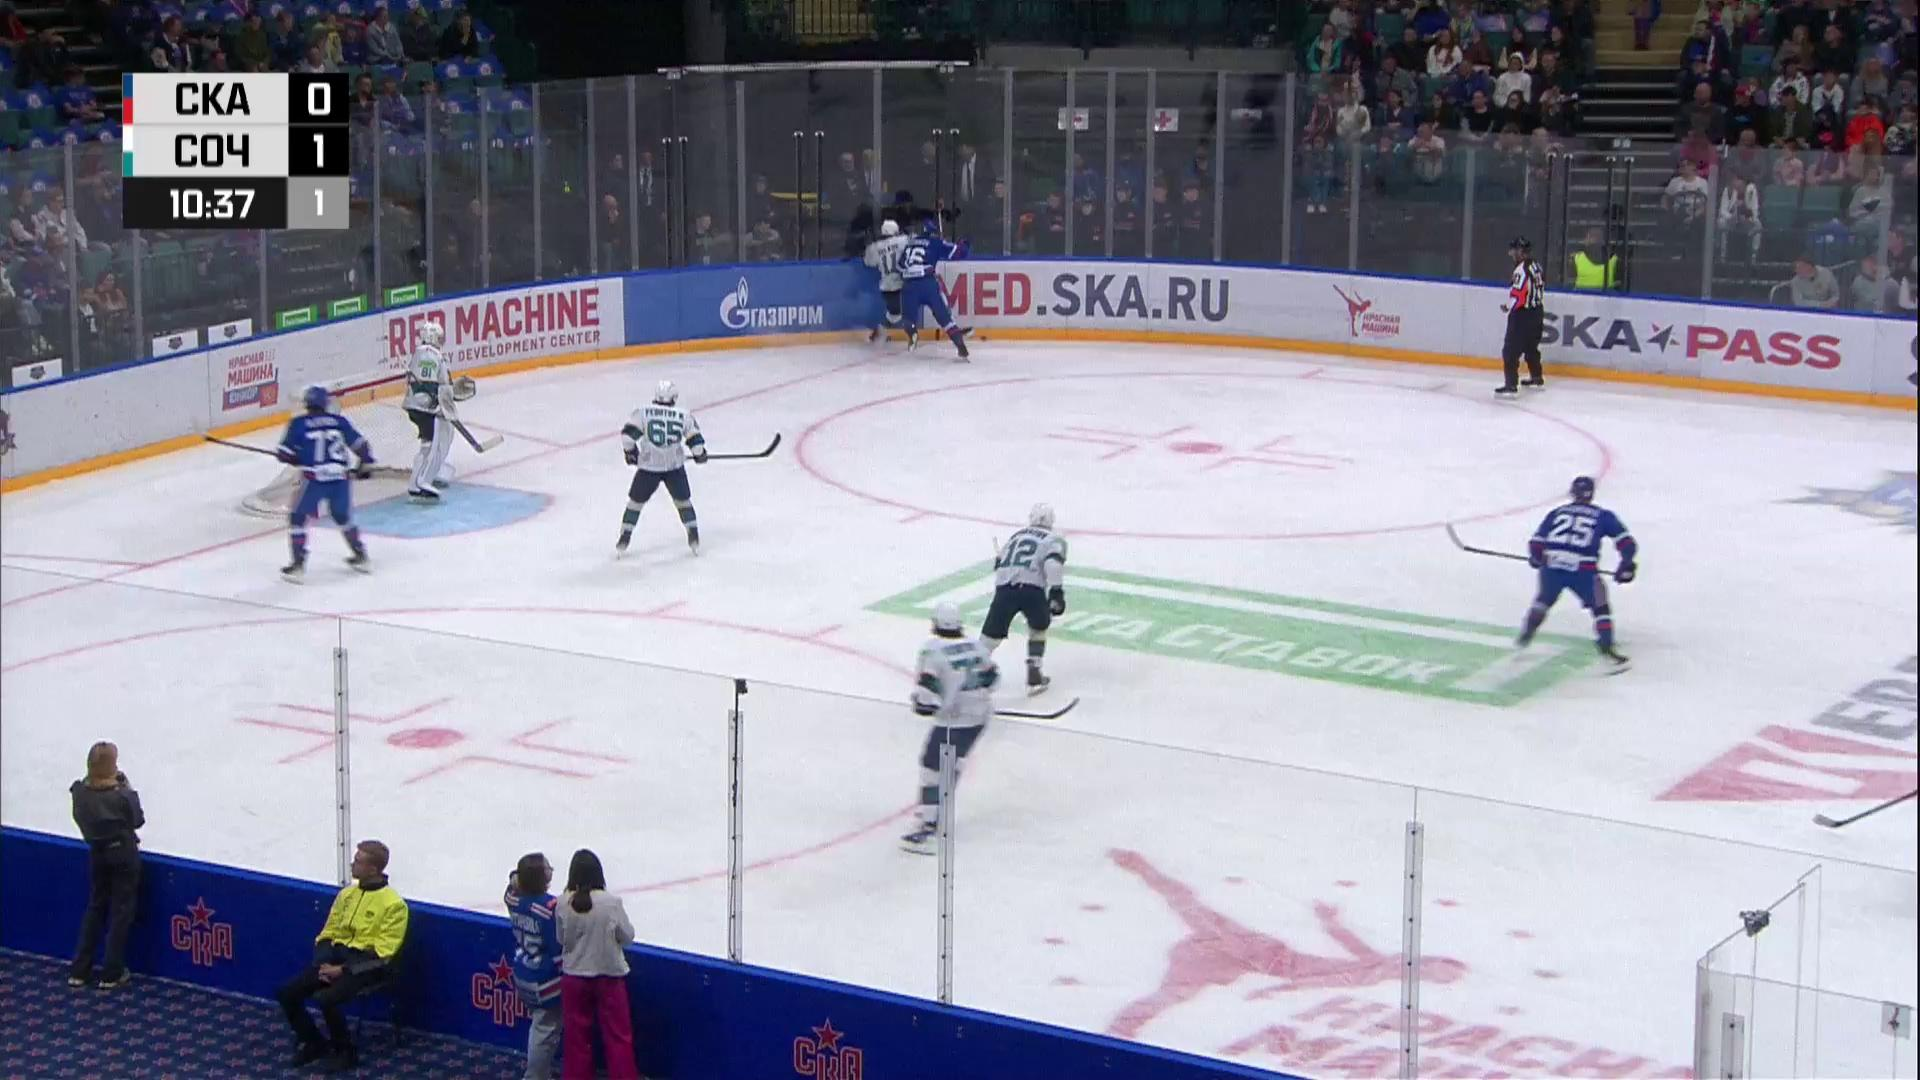ball: (980, 336, 988, 343)
